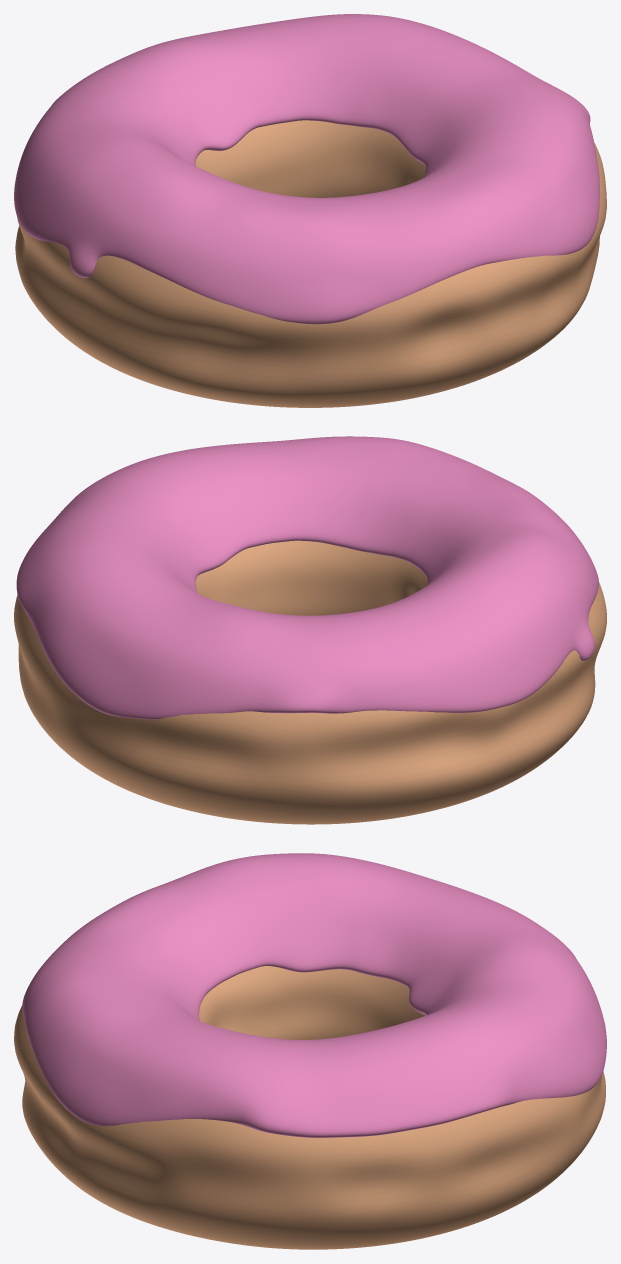
The model's file is donut.glb.
3 renders of one model, top to bottom at view 1: azimuth 30°, elevation 25°; view 2: azimuth 150°, elevation 25°; view 3: azimuth 270°, elevation 25°, orthographic.
Parts seen in each view (by area): view 1: Icing, Donut; view 2: Icing, Donut; view 3: Icing, Donut.
Boxes of the visible parts, bbox=[...] form: Icing: bbox=[14, 14, 599, 324]; Donut: bbox=[15, 120, 606, 407]; Icing: bbox=[16, 436, 598, 719]; Donut: bbox=[14, 540, 606, 824]; Icing: bbox=[22, 853, 606, 1137]; Donut: bbox=[14, 966, 605, 1249].
Size of the model in its own units: 0.1461 by 0.0566 by 0.1461.
